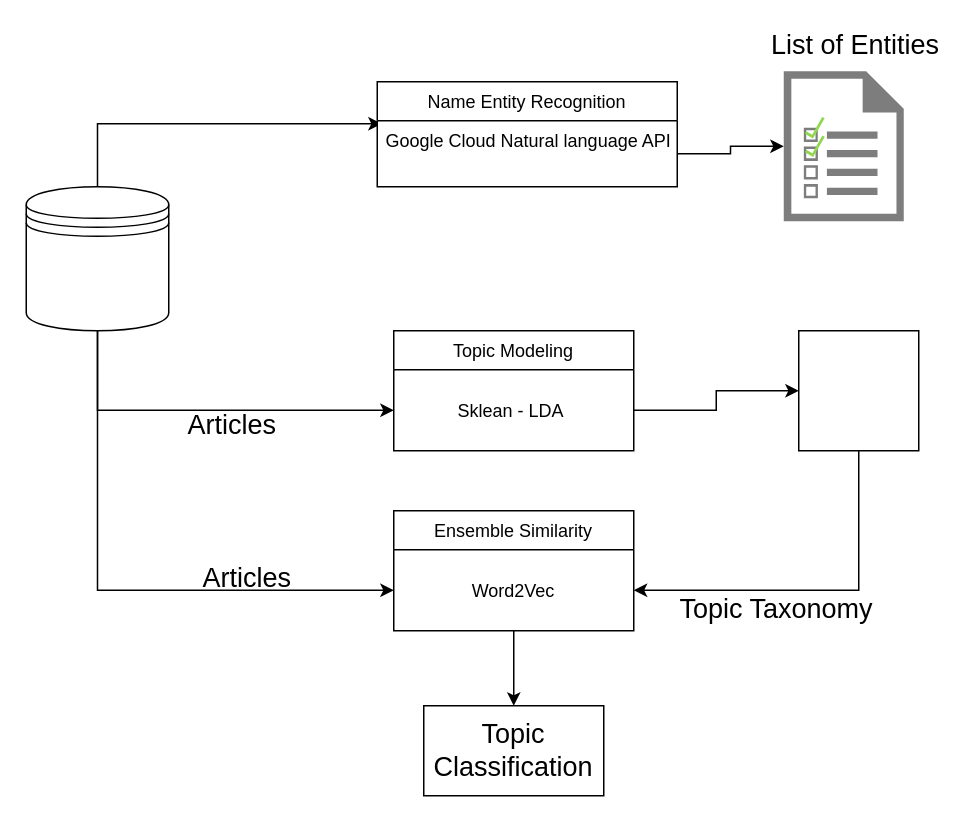
The diagram is 966 pixels wide and 822 high, and some of its shapes have lost their labels. The shapes that lost their labels are listed below. From the top down, each one's centre as x and y in pixels, then its label:
point 97,258: MongoDB
point 858,390: Topics
